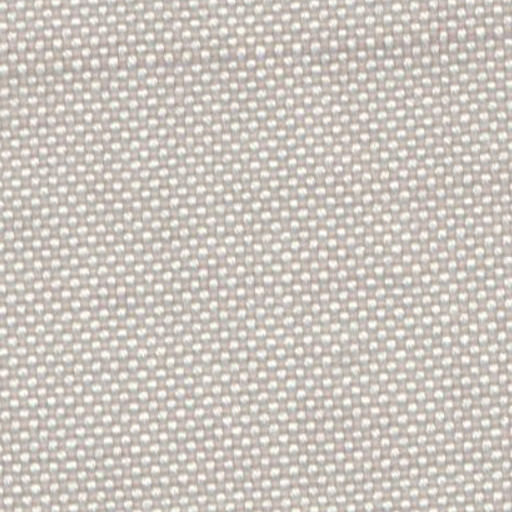TuoSha: (8, 26, 504, 90)
